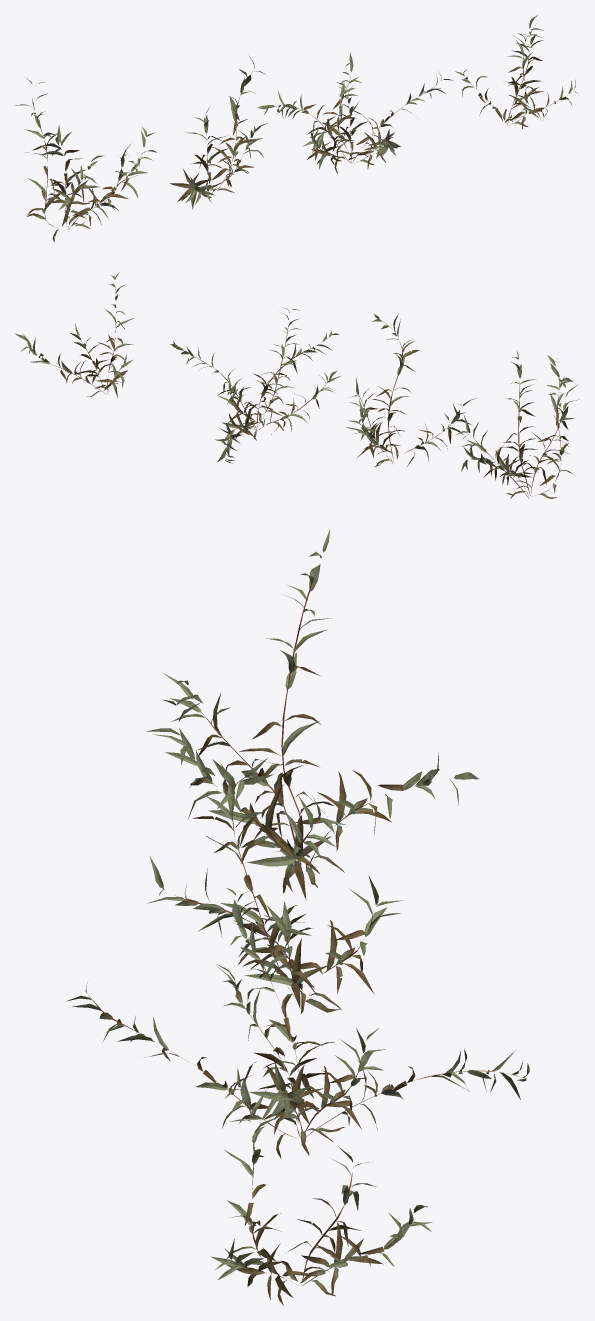
The model's file is shrub_02_lo.gltf.
3 views of the same model, one above another, from view 1: azimuth 30°, elevation 25°; view 2: azimuth 150°, elevation 25°; view 3: azimuth 270°, elevation 25° (orthographic). The views are drawn at different scales.
Visible parts, largest first — view 1: shrub_02_c, shrub_02_a, shrub_02_b, shrub_02_d; view 2: shrub_02_a, shrub_02_c, shrub_02_b, shrub_02_d; view 3: shrub_02_a, shrub_02_c, shrub_02_b, shrub_02_d.
Part boxes in pixels (x1=…): shrub_02_c: x1=257, y1=52, x2=453, y2=173; shrub_02_a: x1=15, y1=78, x2=157, y2=242; shrub_02_b: x1=169, y1=56, x2=267, y2=209; shrub_02_d: x1=455, y1=15, x2=579, y2=128; shrub_02_a: x1=456, y1=350, x2=578, y2=498; shrub_02_c: x1=170, y1=307, x2=341, y2=463; shrub_02_b: x1=345, y1=314, x2=477, y2=467; shrub_02_d: x1=14, y1=272, x2=133, y2=397; shrub_02_a: x1=146, y1=529, x2=478, y2=900; shrub_02_c: x1=66, y1=888, x2=529, y2=1158; shrub_02_b: x1=146, y1=758, x2=403, y2=1017; shrub_02_d: x1=210, y1=1068, x2=432, y2=1305.
Size of the model in its own units: 6.05 by 1.7 by 2.29.
1 material, 1 textured.
